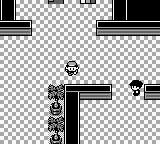main: (65, 62, 79, 75)
no-caminable: (48, 84, 64, 143), (97, 22, 159, 35), (65, 84, 111, 101), (66, 90, 79, 143), (127, 0, 160, 20), (1, 21, 31, 35), (112, 0, 128, 20), (1, 0, 15, 20), (145, 85, 159, 99)
npc: (130, 80, 142, 95)
puerta: (80, 0, 96, 4), (48, 0, 64, 4)
